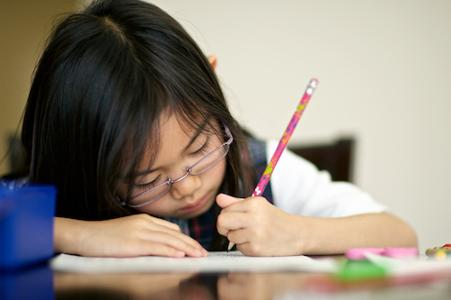person: (2, 2, 422, 259)
